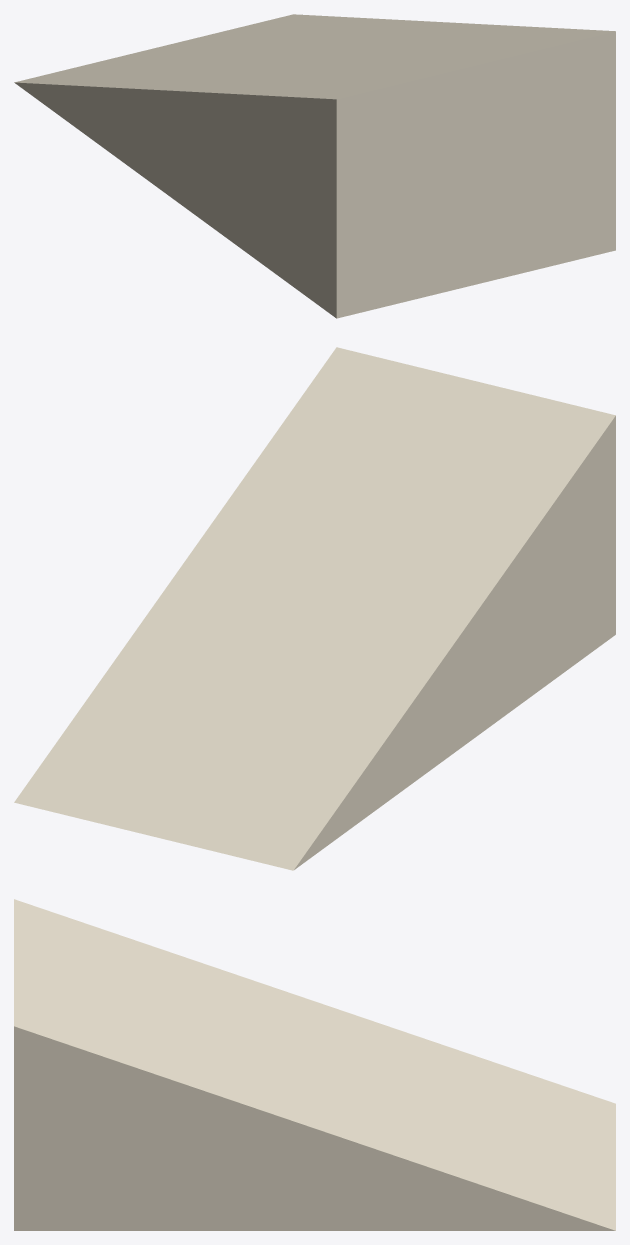
The model's file is b-ramp.glb.
3 renders of one model, top to bottom at view 1: azimuth 30°, elevation 25°; view 2: azimuth 150°, elevation 25°; view 3: azimuth 270°, elevation 25°, orthographic. The views are drawn at different scales.
Visible parts, largest first — view 1: b-ramp; view 2: b-ramp; view 3: b-ramp.
Boxes of the visible parts, x1,y1,x2,y2 form: b-ramp: (14, 14, 615, 318); b-ramp: (14, 347, 615, 870); b-ramp: (14, 899, 615, 1230).
Size of the model in its own units: 2 by 1.5 by 4.
